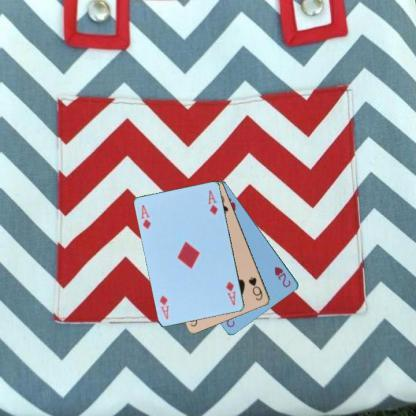2h: (272, 264, 292, 288)
6s: (246, 274, 264, 302)
Ad: (138, 202, 152, 231), (223, 279, 238, 306)
